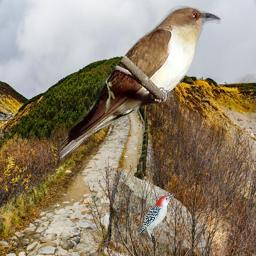Cuckoo: (60, 5, 221, 160)
Woodpecker: (134, 193, 176, 248)
